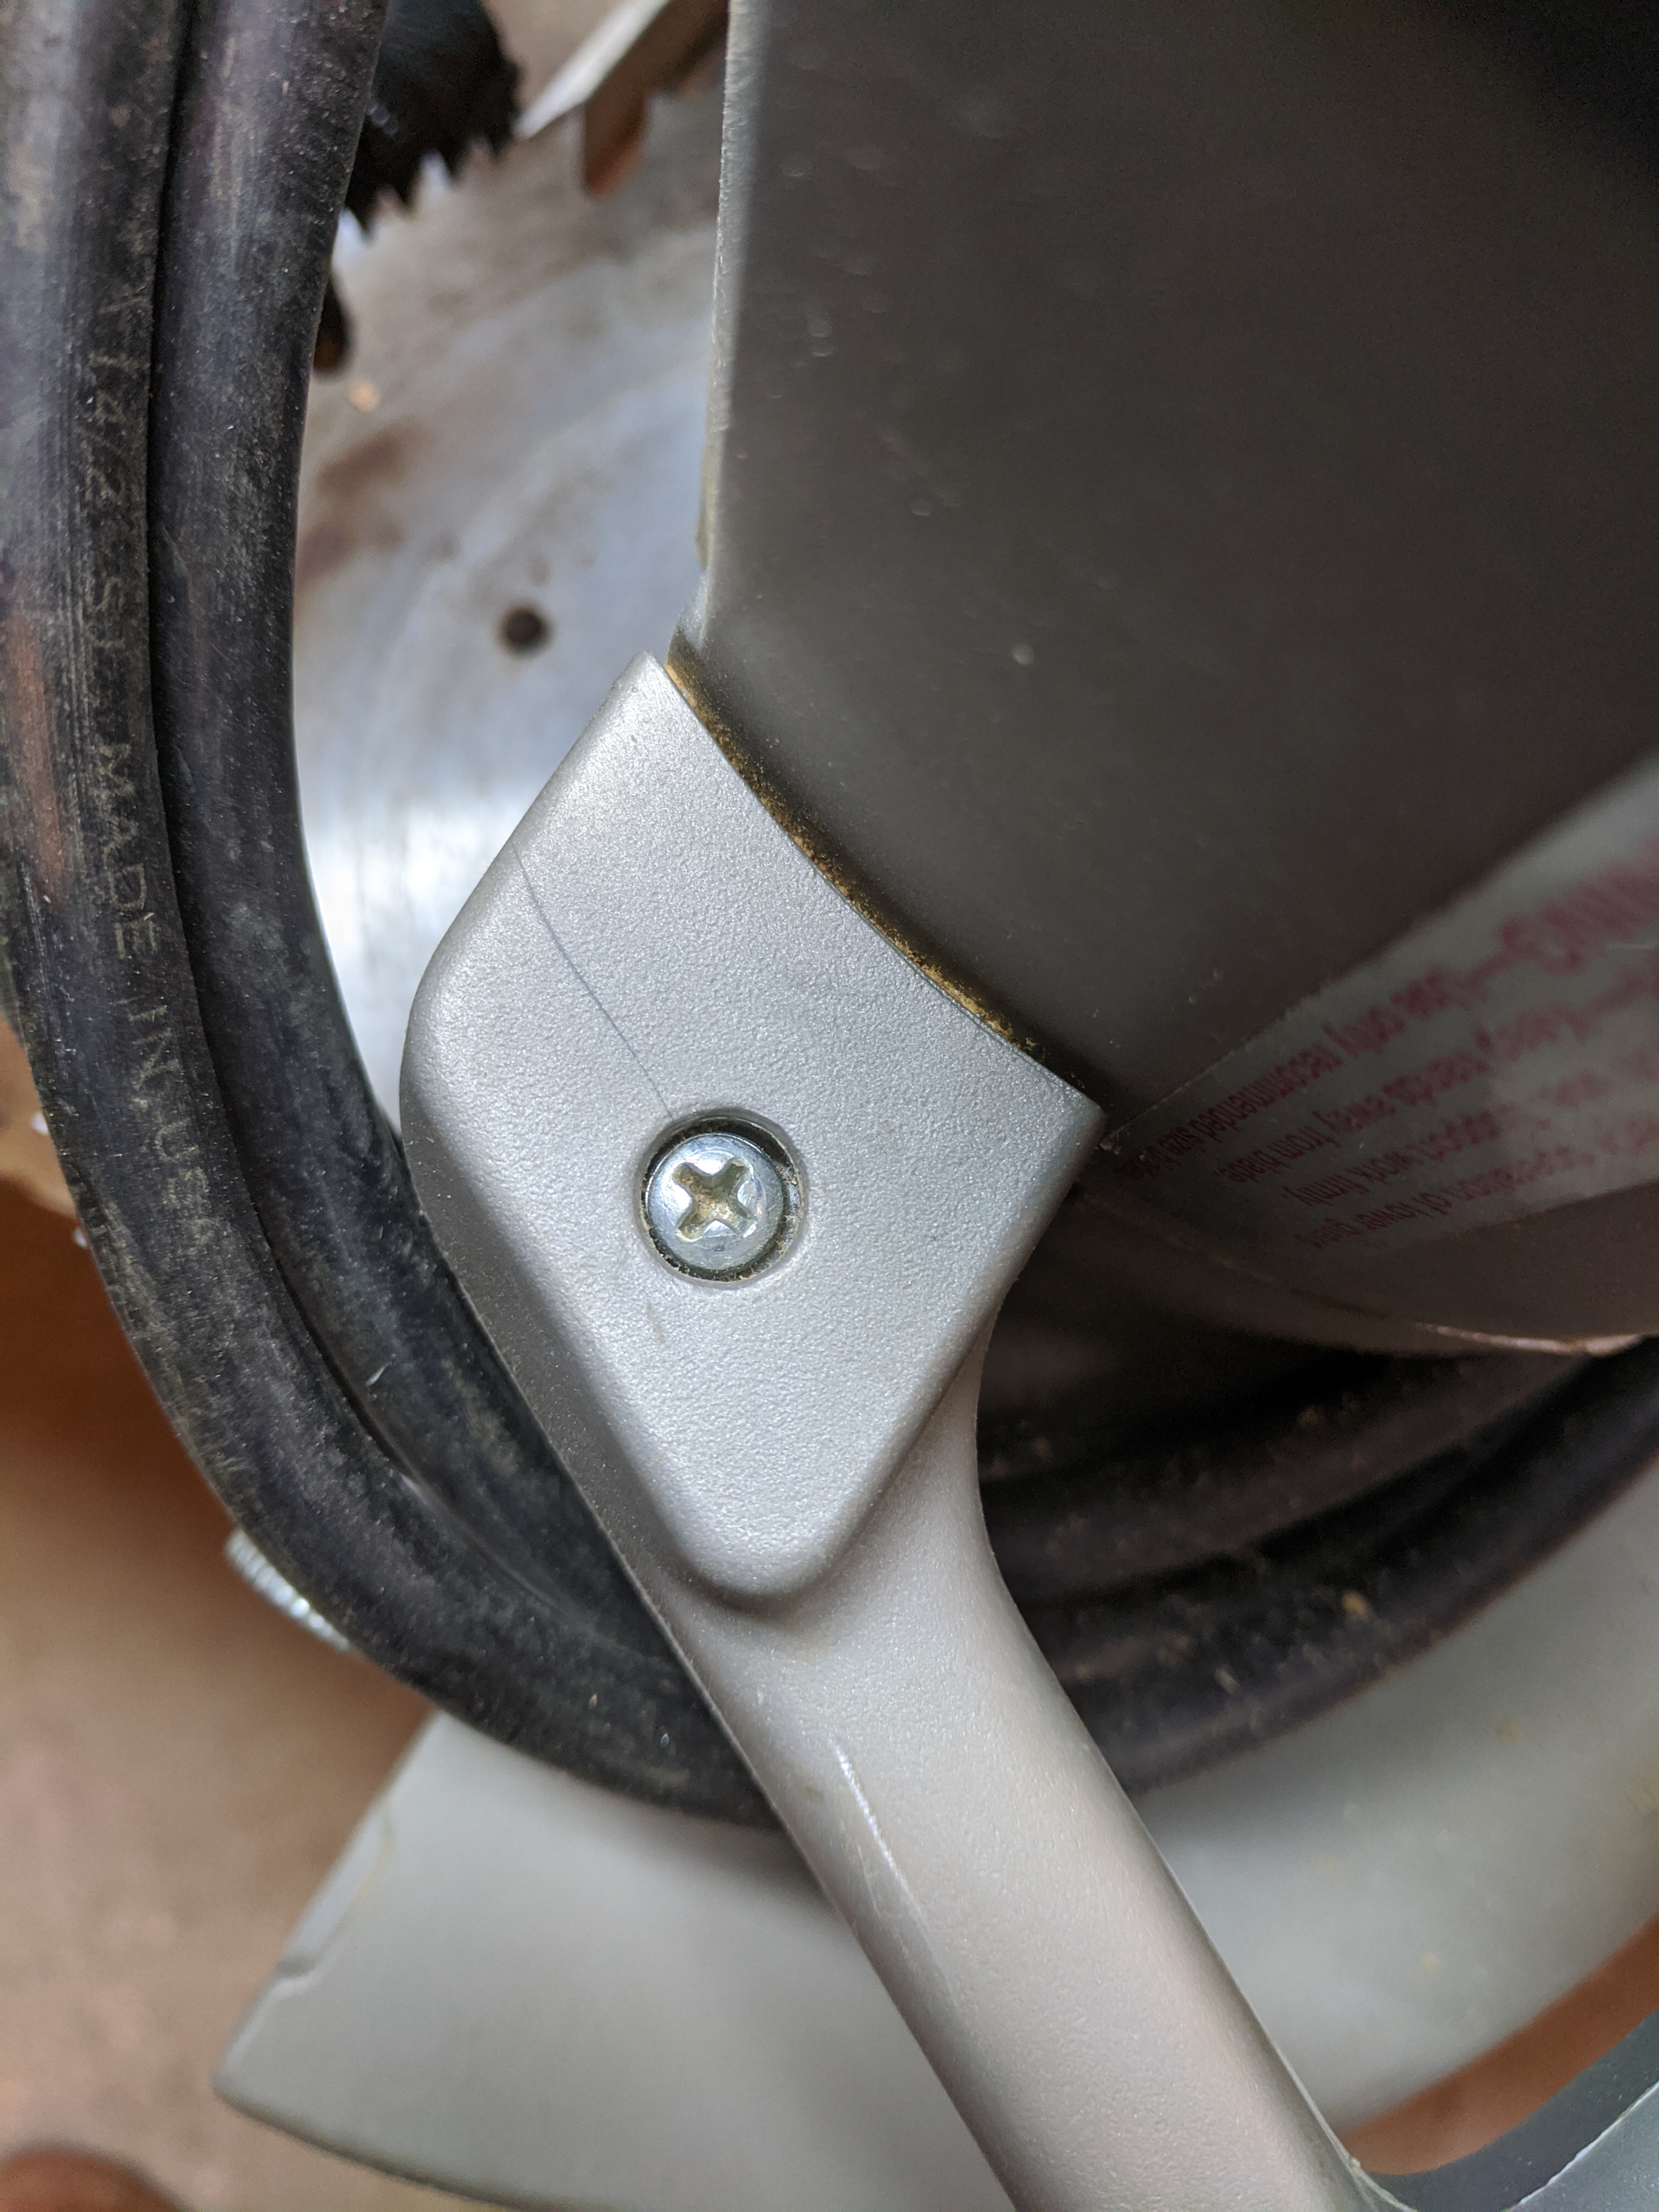cross_recessed_screw: (965, 1977, 1119, 2135), (1218, 181, 1363, 334)
